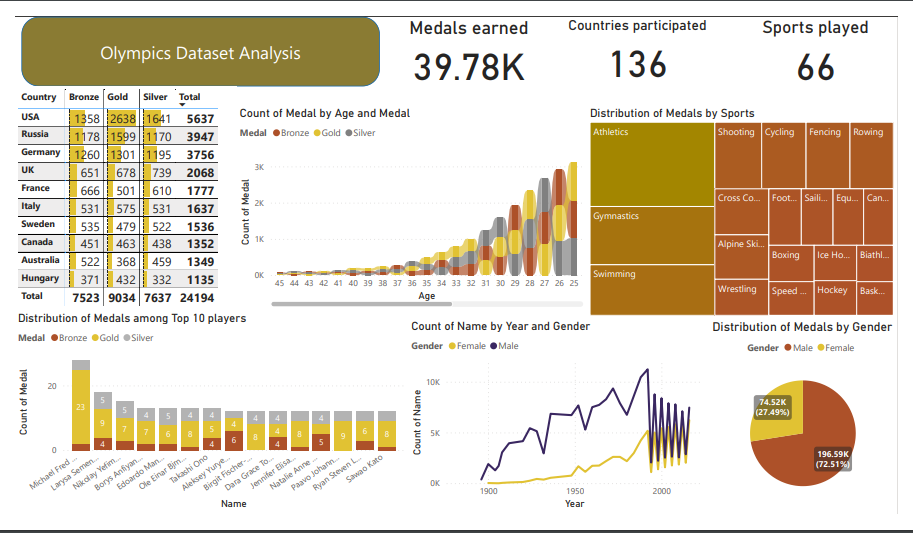

Layout of this report page (visuals, bound fields, positions):
{"tool":"powerbi","page":{"name":"Page 5","canvas":[1280,720],"ordinal":4},"visuals":[{"type":"shape","box":[10.2,0,519.5,101],"z":0},{"type":"pivotTable","fields":{"Rows":["Olympics final.Country"],"Columns":["Olympics final.Medal"],"Values":["Olympics final.Medal"]},"box":[0,101,322,324.9],"z":1},{"type":"card","title":"Medals earned","fields":{"Values":["Olympics final.Medal"]},"box":[529.8,0,259,101],"z":2},{"type":"card","title":"Countries participated","fields":{"Values":["Olympics final.Country"]},"box":[778.5,0,250.2,101],"z":3},{"type":"card","title":"Sports played","fields":{"Values":["Olympics final.Sport"]},"box":[1044.9,0,235.6,101],"z":4},{"type":"ribbonChart","fields":{"Category":["Olympics final.Age"],"Y":["Olympics final.Medal"],"Series":["Olympics final.Medal"]},"box":[322,128.8,507.8,297.1],"z":5},{"type":"treemap","title":"Distribution of Medals by Sports","fields":{"Group":["Olympics final.Sport"],"Values":["Olympics final.Medal"]},"box":[829.8,128.8,450.7,308.8],"z":6},{"type":"columnChart","title":"Distribution of Medals among Top 10 players","fields":{"Category":["Olympics final.Name"],"Y":["Olympics final.Medal"],"Series":["Olympics final.Medal"]},"box":[0,425.9,570.7,294.1],"z":7},{"type":"lineChart","fields":{"Category":["Olympics final.Year"],"Y":["Olympics final.Name"],"Series":["Olympics final.Gender"]},"box":[570.7,437.6,436.1,282.4],"z":8},{"type":"pieChart","title":"Distribution of Medals by Gender","fields":{"Category":["Olympics final.Gender"],"Y":["Olympics final.Medal"]},"box":[1006.8,437.6,273.7,282.4],"z":9}]}

Visuals, with their boxes on the page's 1280x720 design canvas (x1, y1, x2, y2). These are canvas units, not pixel positions in the 913x533 screenshot, which may show the page scaled, cropped or inside an application window:
shape: [10,0,530,101]
pivotTable - Olympics final.Country x Olympics final.Medal: [0,101,322,426]
"Medals earned" card: [530,0,789,101]
"Countries participated" card: [778,0,1029,101]
"Sports played" card: [1045,0,1280,101]
ribbonChart - Olympics final.Age x Olympics final.Medal: [322,129,830,426]
"Distribution of Medals by Sports" treemap: [830,129,1280,438]
"Distribution of Medals among Top 10 players" columnChart: [0,426,571,720]
lineChart - Olympics final.Year x Olympics final.Name: [571,438,1007,720]
"Distribution of Medals by Gender" pieChart: [1007,438,1280,720]
